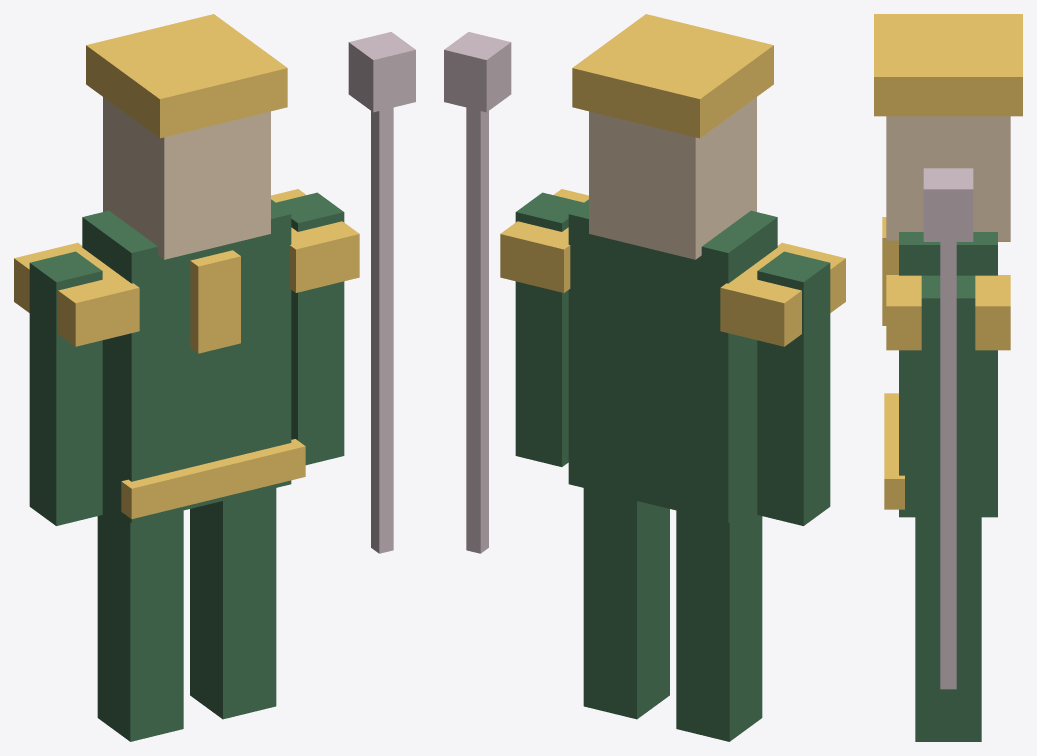
The model's file is 06_quill_skyharrow_cartographer_under.glb.
3 renders of one model, left to right at view 1: azimuth 30°, elevation 25°; view 2: azimuth 150°, elevation 25°; view 3: azimuth 270°, elevation 25°, orthographic.
Parts seen in each view (by area): view 1: Quill Skyharrow, Cartographer under; view 2: Quill Skyharrow, Cartographer under; view 3: Quill Skyharrow, Cartographer under.
Part boxes in pixels (<box>): Quill Skyharrow, Cartographer under: <box>14,14,415,741</box>; Quill Skyharrow, Cartographer under: <box>444,14,845,741</box>; Quill Skyharrow, Cartographer under: <box>874,14,1022,741</box>.
Bounding box in the file's own units: 0.9717 × 1.69 × 0.3446.
